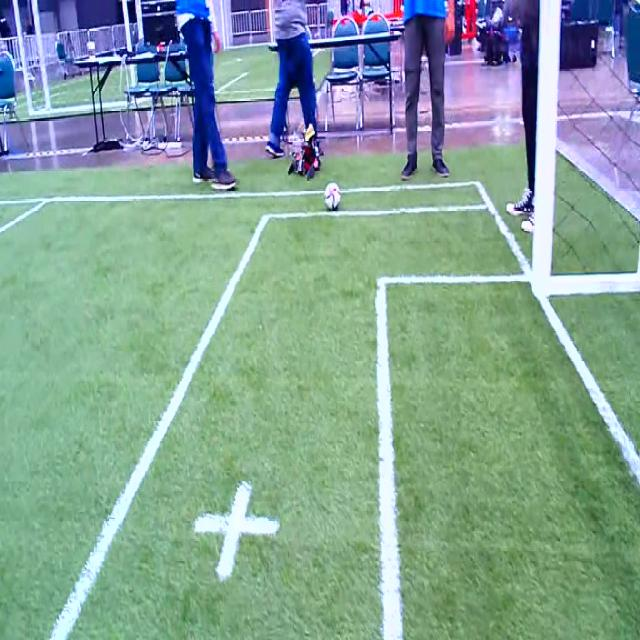ball: (324, 183, 340, 209)
